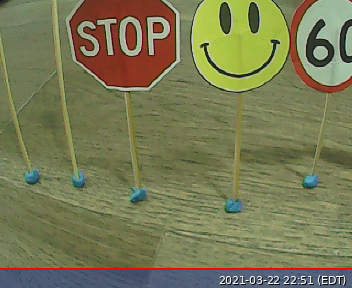Person: (190, 1, 290, 92)
Stop: (65, 1, 180, 91)
